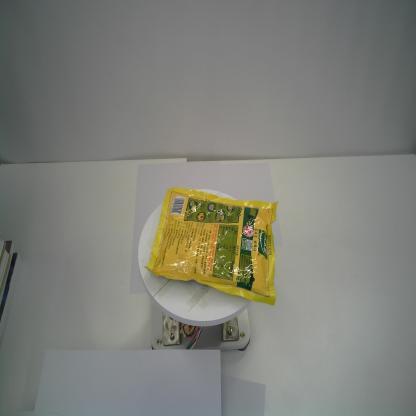Seasoner: (145, 186, 278, 307)
